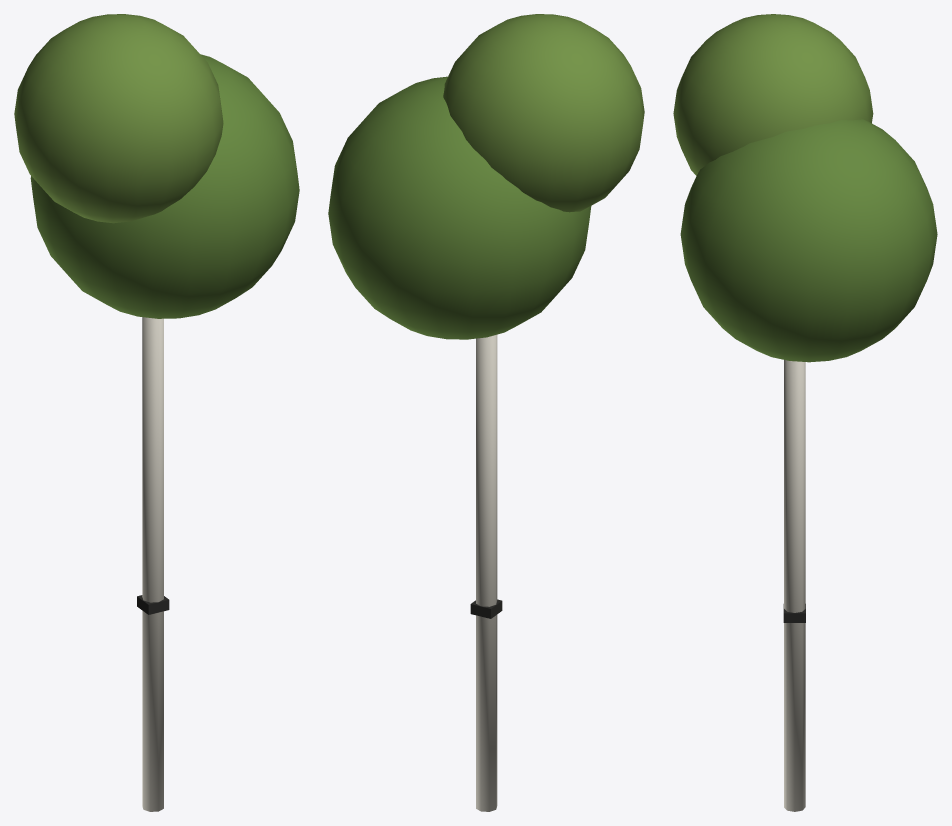
The model's file is Tree_birch.fbx.
The picture shows the model from 3 angles, left to right: view 1: azimuth 30°, elevation 25°; view 2: azimuth 150°, elevation 25°; view 3: azimuth 270°, elevation 25°; orthographic projection. The views are drawn at different scales.
Parts seen in each view (by area): view 1: Crown2, Crown1, Trunk; view 2: Crown1, Crown2, Trunk; view 3: Crown1, Crown2, Trunk.
Part boxes in pixels (x1=…): Crown2: x1=14, y1=14, x2=223, y2=223; Crown1: x1=30, y1=54, x2=299, y2=318; Trunk: x1=142, y1=317, x2=163, y2=811; Crown1: x1=328, y1=76, x2=591, y2=339; Crown2: x1=443, y1=14, x2=644, y2=212; Trunk: x1=476, y1=334, x2=497, y2=811; Crown1: x1=680, y1=119, x2=937, y2=362; Crown2: x1=673, y1=14, x2=873, y2=175; Trunk: x1=784, y1=360, x2=805, y2=811.
Bounding box in the file's own units: 420 × 370 × 1180.
